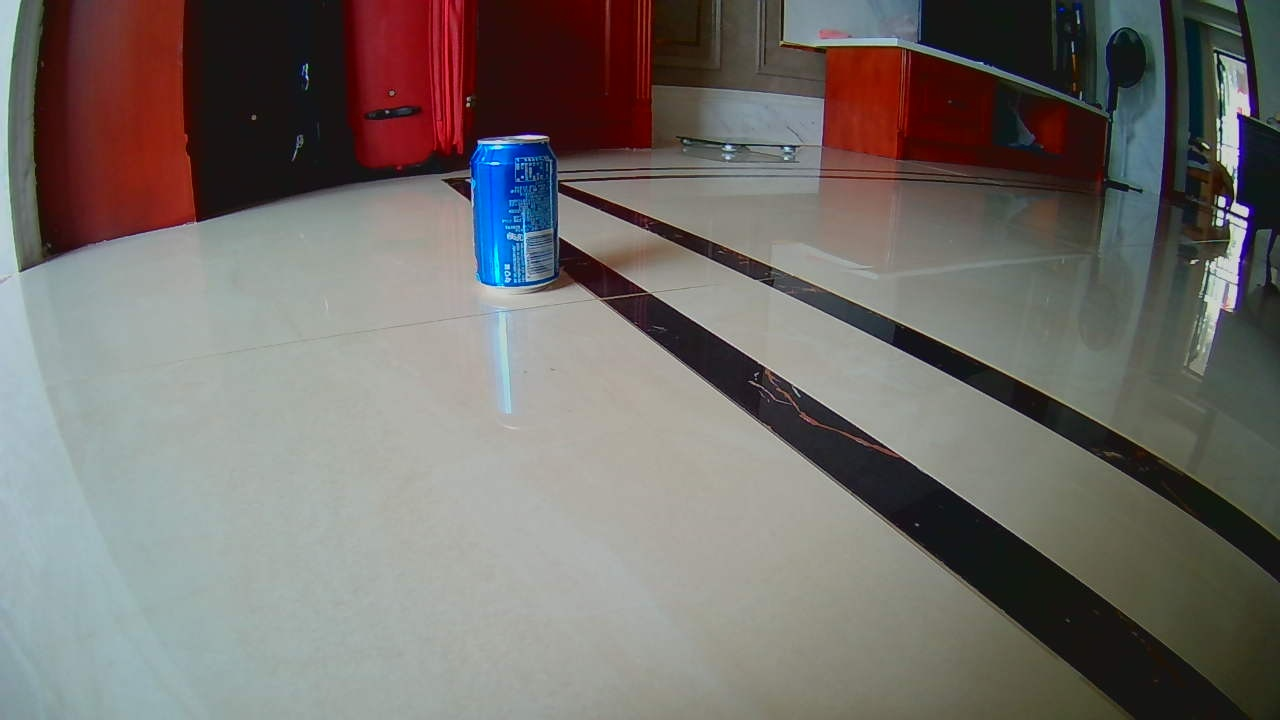pessi: (470, 139, 559, 293)
